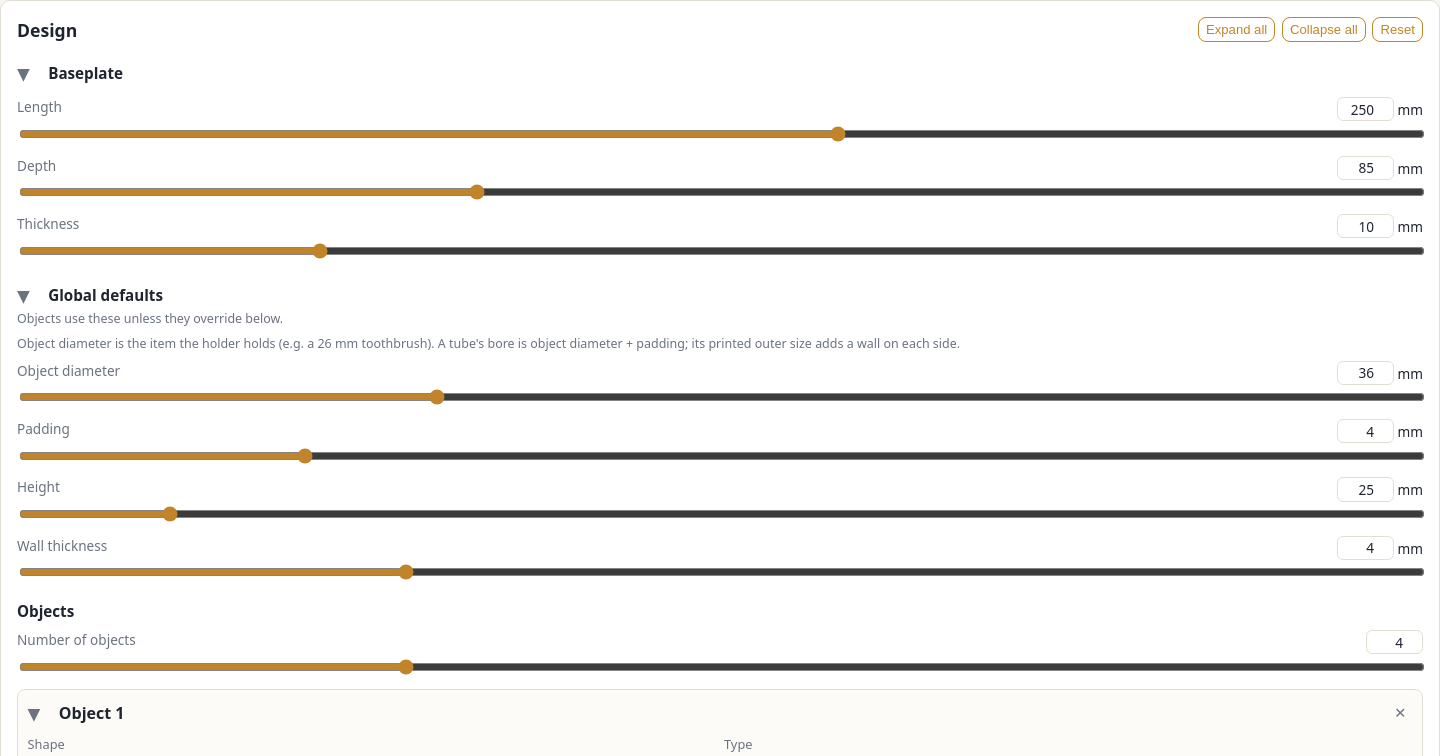
Test: ParameterControls collapsing › collapses and reopens the Baseplate section
Expected: the number field named "Length" is shown, x1=1337 y1=97 x2=1394 y2=121
Click the button "▾ Baseplate" at (86, 73), box x1=17 y1=58 x2=1423 y2=88
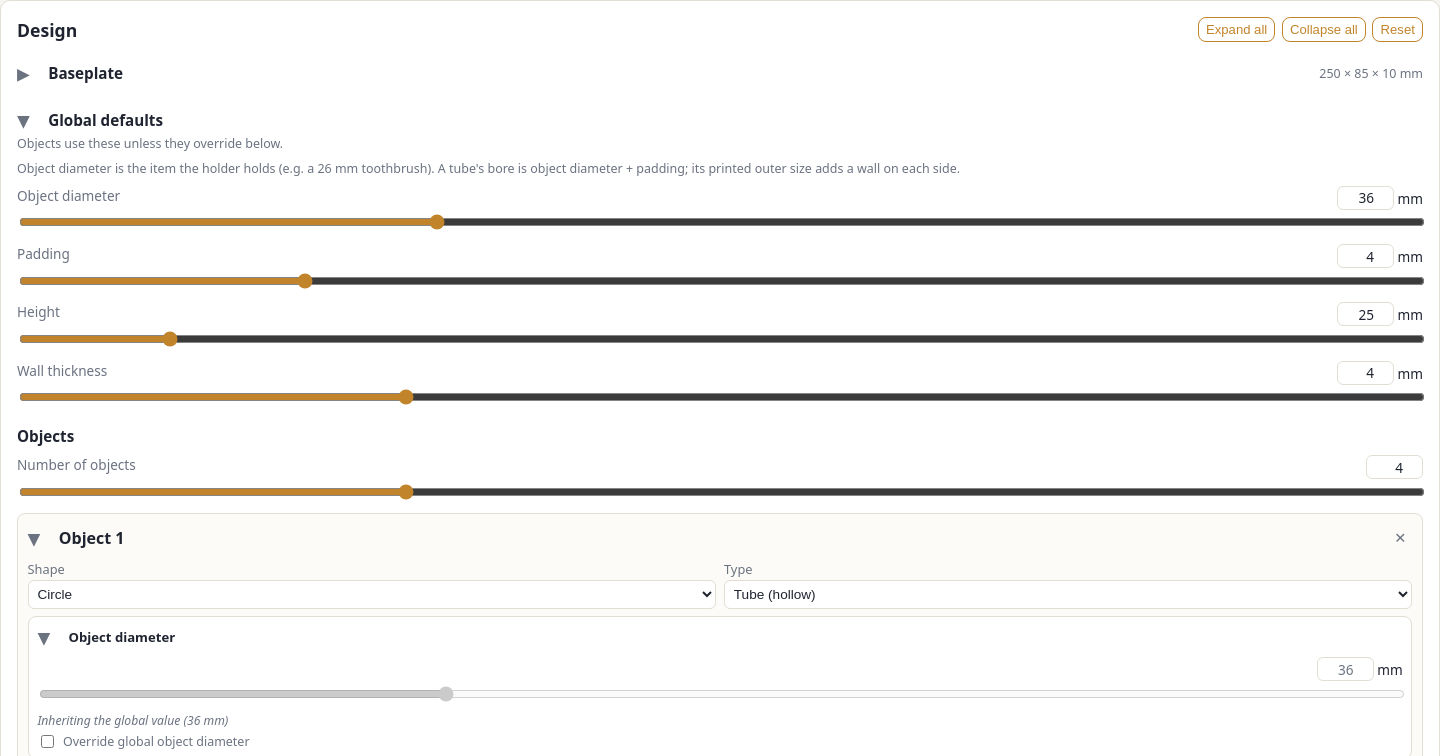
Expected: the field labelled "Length" is gone
Click the button "▸ Baseplate 250 × 85 × 10 mm" at (86, 73), box x1=17 y1=58 x2=1423 y2=88
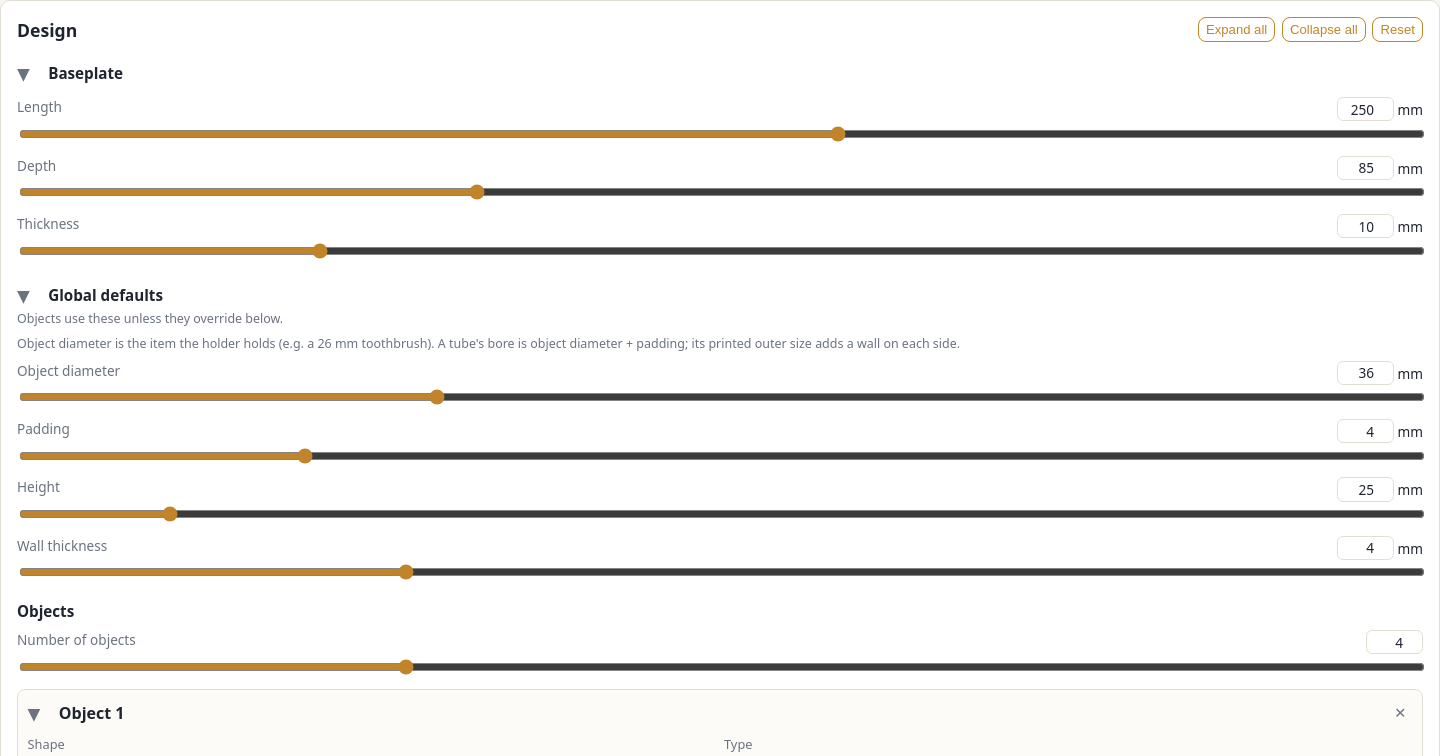
Expected: the number field named "Length" is shown, x1=1337 y1=97 x2=1394 y2=121
